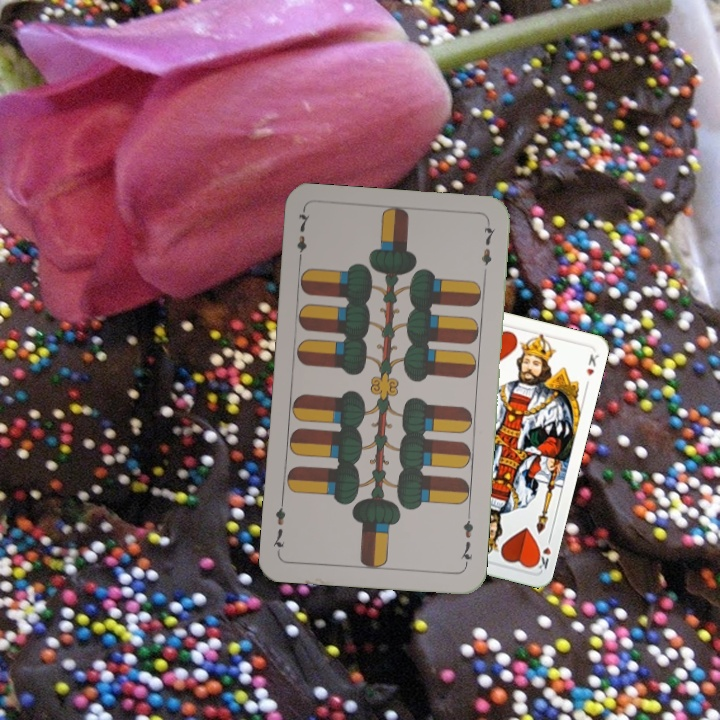E7: (456, 509, 476, 569), (293, 210, 312, 266)
HK: (530, 532, 554, 572)
